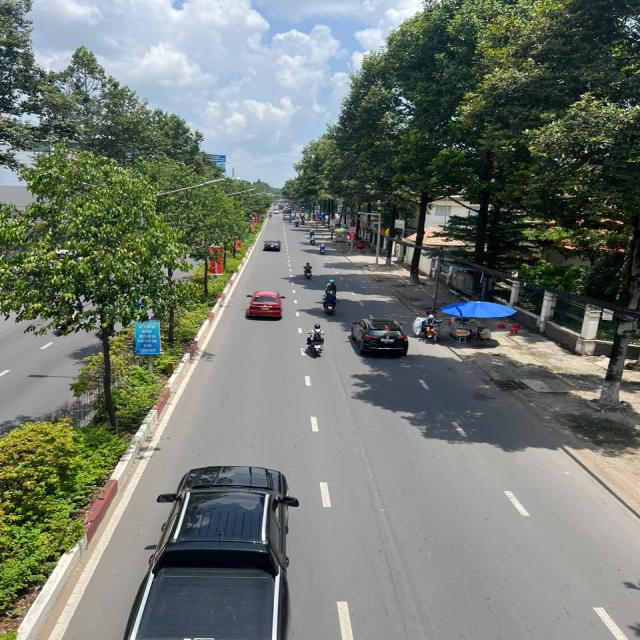car: (351, 319, 408, 352), (250, 291, 284, 318), (261, 239, 280, 252), (283, 215, 291, 221), (274, 210, 279, 215)
motobyte: (311, 326, 328, 358), (321, 294, 337, 314), (324, 281, 338, 300), (301, 264, 314, 280), (318, 243, 326, 256), (310, 234, 316, 244), (300, 218, 306, 226), (310, 230, 316, 237), (295, 220, 299, 227), (288, 219, 292, 223)
